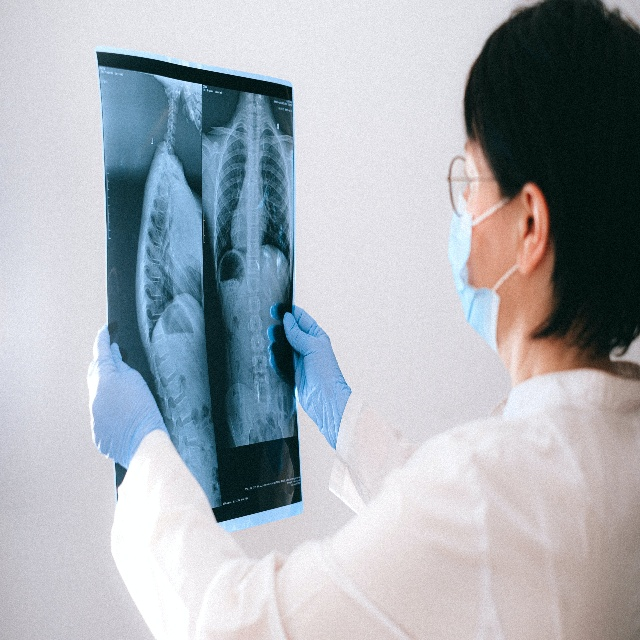Gafas: (447, 154, 525, 214)
Guantes: (267, 300, 351, 447), (86, 323, 170, 467)
Mascara: (446, 198, 518, 352)
